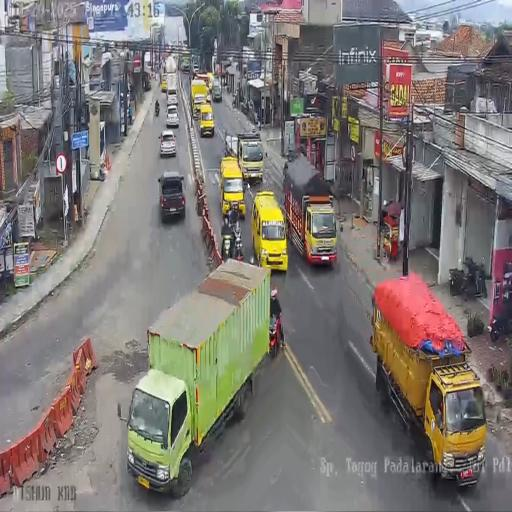3: (124, 261, 275, 495), (369, 272, 485, 487), (280, 160, 334, 268), (237, 128, 264, 186), (192, 55, 200, 73), (182, 56, 190, 72)
car: (251, 191, 287, 273), (218, 154, 244, 220), (159, 169, 186, 219), (199, 104, 215, 138), (160, 130, 177, 157), (166, 106, 179, 128), (166, 84, 178, 106), (212, 78, 222, 102), (160, 74, 167, 92), (206, 90, 211, 103)
truck: (154, 104, 160, 116)
